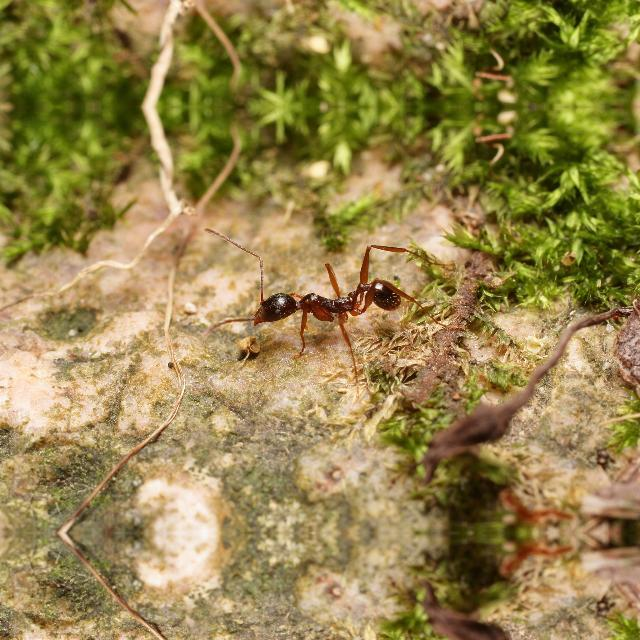Apheanogaster: (234, 260, 420, 338)
